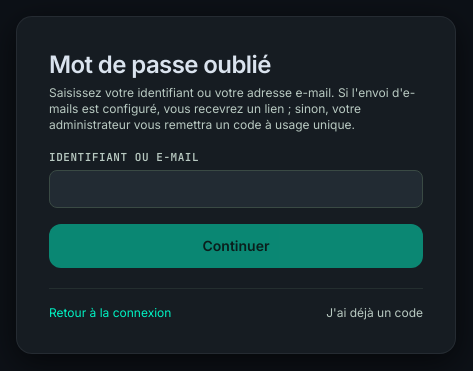
Test: Mot de passe oublié › sans e-mail configuré, annonce honnêtement qu'il faut demander un code à l'administrateur
Type "alice" into the field labelled "Identifiant ou e-mail".
click(236, 189); type("alice")  # box x1=49 y1=170 x2=423 y2=208
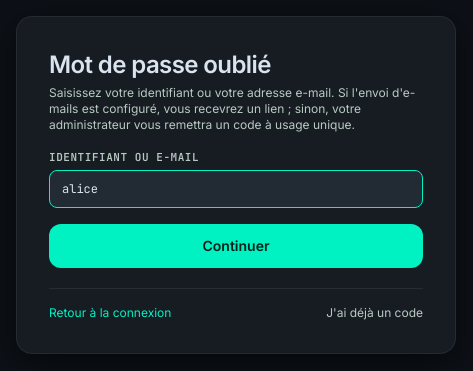
Click the button "Continuer".
click(236, 246)  # box x1=49 y1=224 x2=423 y2=268
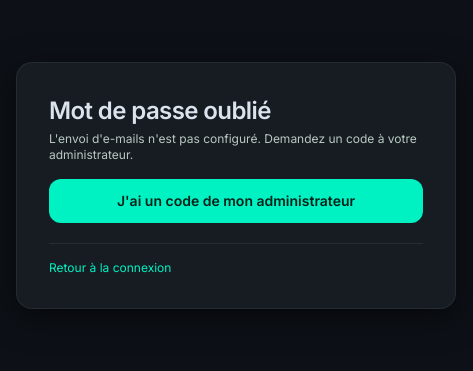
Expected: the element with test id "oubli-reponse" shows "n'est pas configuré", x1=49 y1=130 x2=417 y2=162
Expected: the button "J'ai un code de mon administrateur" is shown, x1=49 y1=178 x2=423 y2=222
